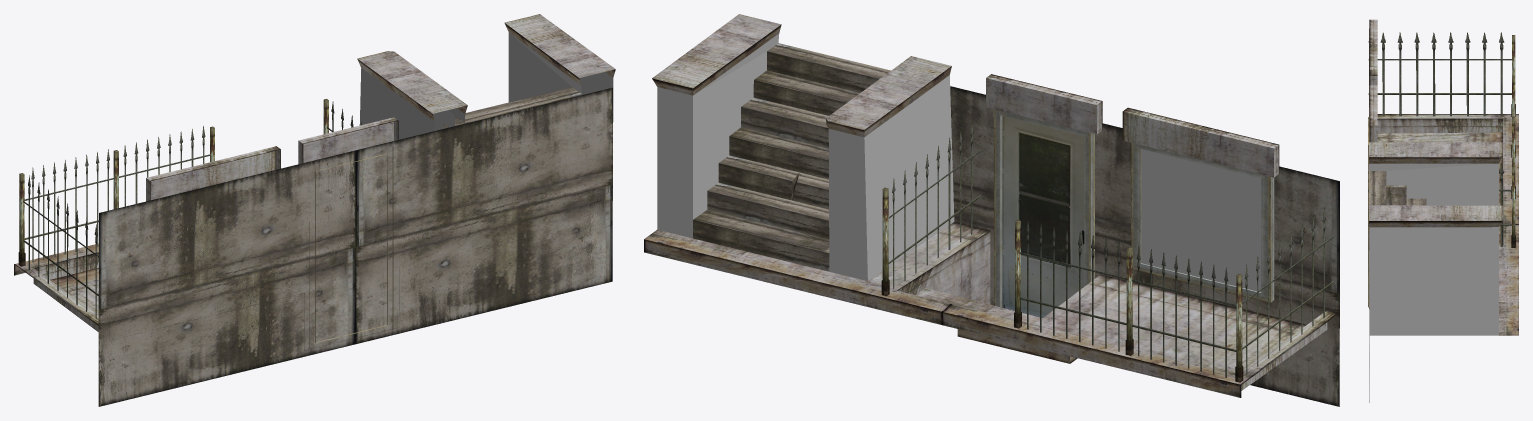
File: Trottoir_03.fbx
The picture shows the model from 3 angles, left to right: view 1: azimuth 30°, elevation 25°; view 2: azimuth 150°, elevation 25°; view 3: azimuth 270°, elevation 25°; orthographic projection. The views are drawn at different scales.
Visible parts, largest first — view 1: Trottoir_03; view 2: Trottoir_03; view 3: Trottoir_03.
Part boxes in pixels (left/top/right/bottom): Trottoir_03: left=14, top=14, right=615, bottom=406; Trottoir_03: left=644, top=14, right=1339, bottom=406; Trottoir_03: left=1368, top=19, right=1518, bottom=402.
Size of the model in its own units: 704 by 277 by 201.
